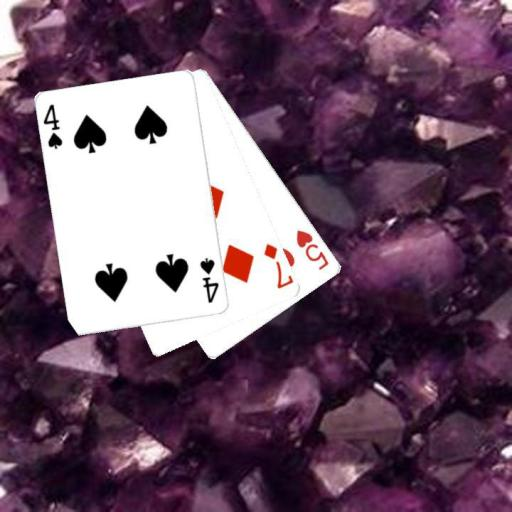4S: (197, 255, 221, 305), (41, 101, 64, 151)
5H: (293, 227, 331, 272)
7D: (261, 240, 294, 291)
